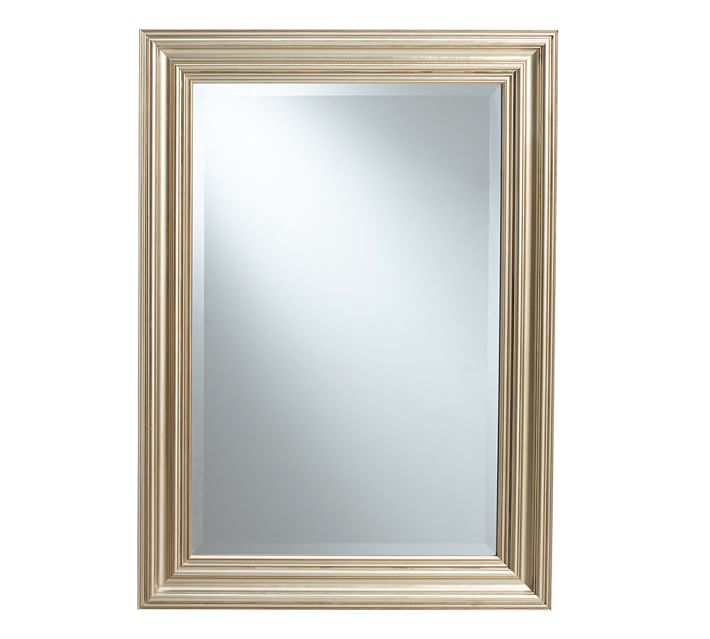Nonrec_Glass: (123, 13, 563, 619)
